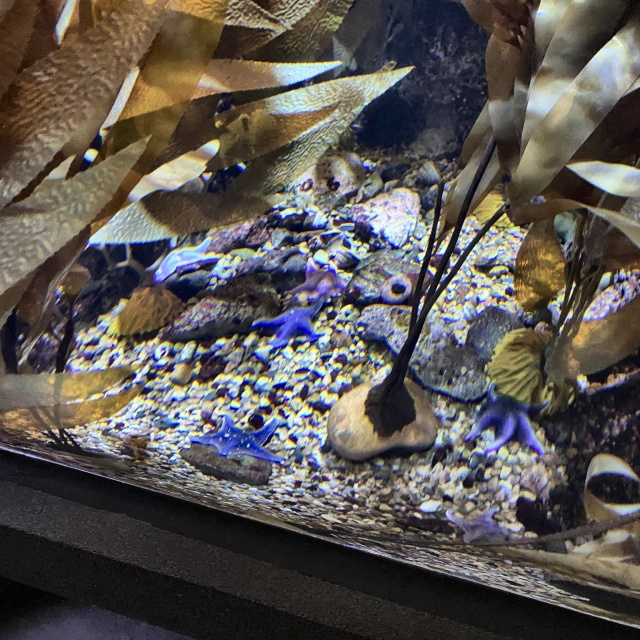starfish: (468, 380, 550, 456), (190, 414, 286, 465), (251, 294, 325, 349), (154, 238, 221, 282), (448, 507, 510, 545)
